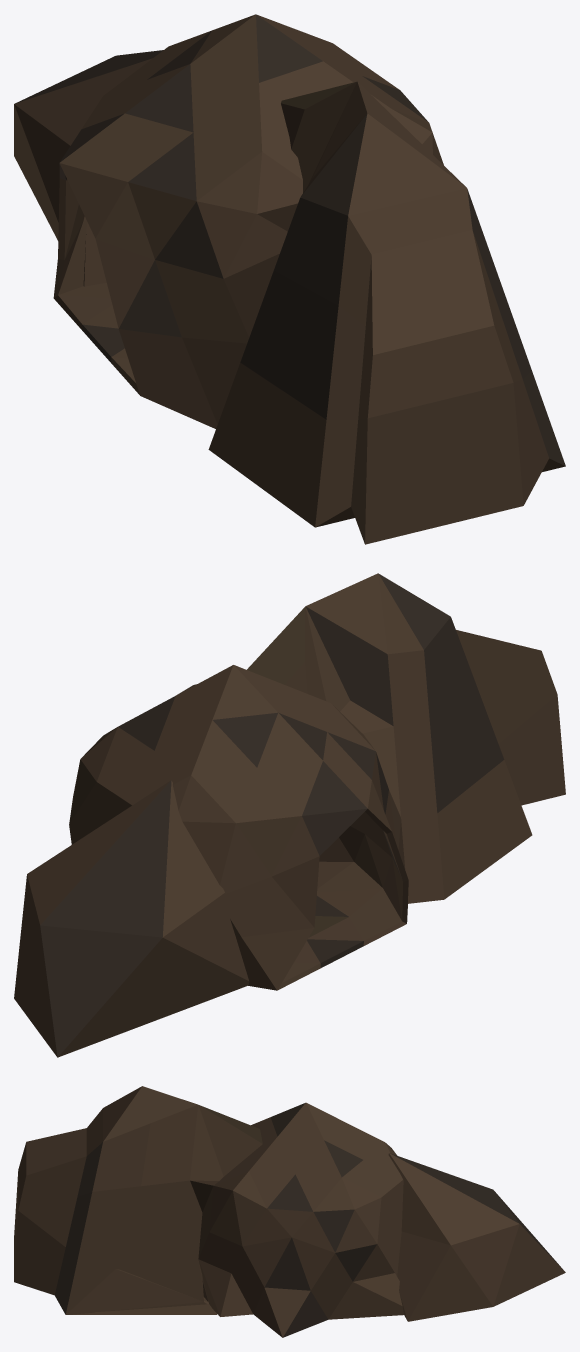
The model's file is Cave.fbx.
3 views of the same model, one above another, from view 1: azimuth 30°, elevation 25°; view 2: azimuth 150°, elevation 25°; view 3: azimuth 270°, elevation 25° (orthographic). The views are drawn at different scales.
Parts seen in each view (by area): view 1: Icosphere; view 2: Icosphere; view 3: Icosphere.
Part boxes in pixels (x1,y1,x2,y2): Icosphere: [14, 14, 565, 544]; Icosphere: [14, 573, 565, 1057]; Icosphere: [14, 1086, 565, 1337].
Size of the model in its own units: 1585 by 1299 by 3379.
